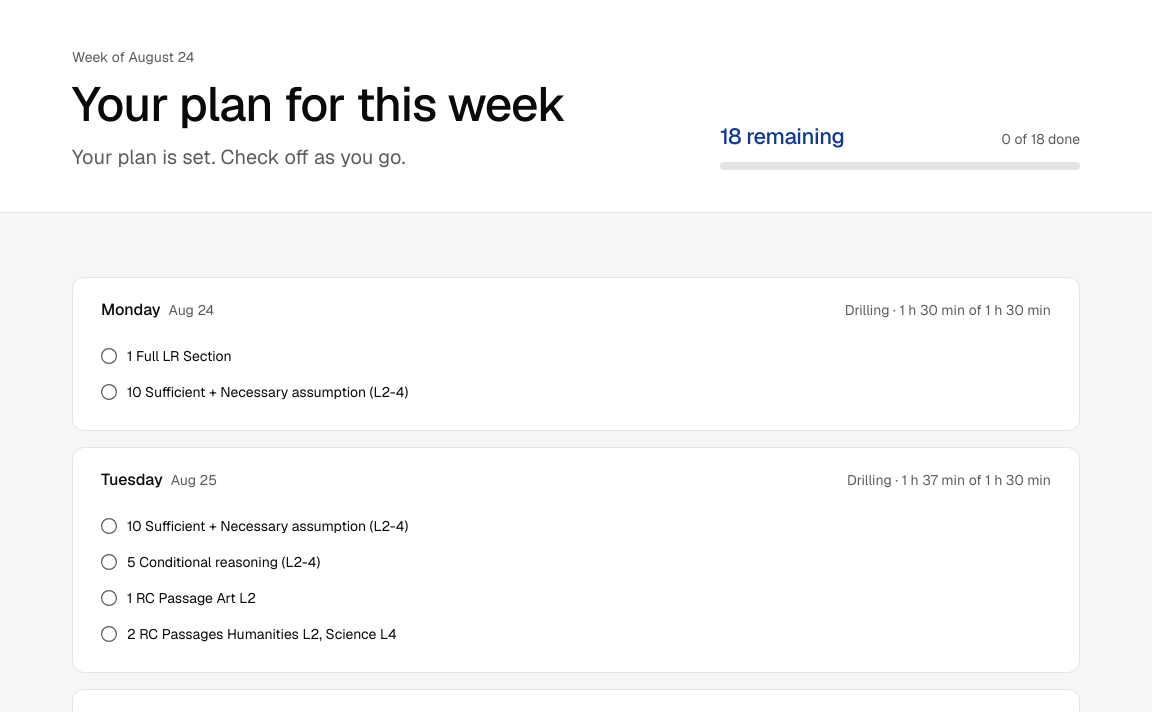
ScheduleCheckInView › undoes a check-off that fails and shows the error code
Step 1. Click the checkbox labelled "1 Full LR Section" → click(179, 356), box [93,338,1059,374]
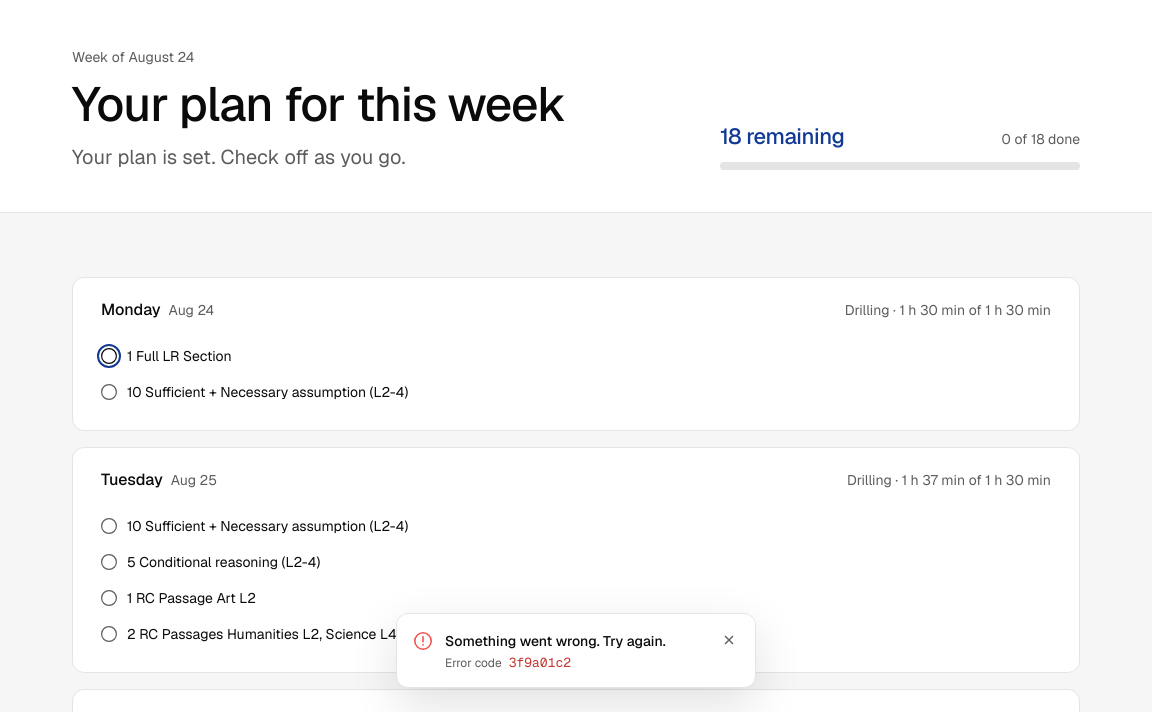
expect the text "18 remaining" is shown: met, box [720,122,844,150]
expect the message reads "Something went wrong. Try again. Error code 3f9a01c2": met, box [396,613,756,688]
